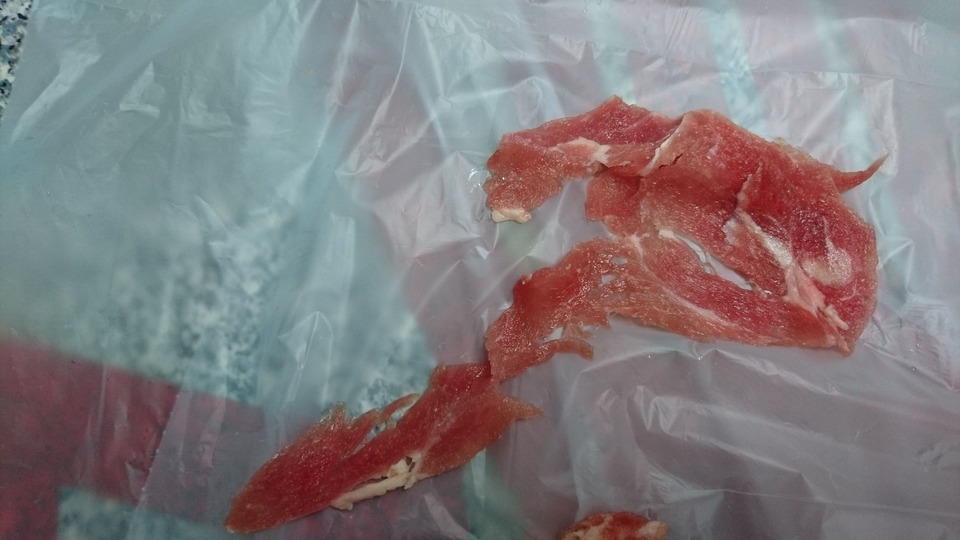restructured meat: (278, 136, 862, 506)
